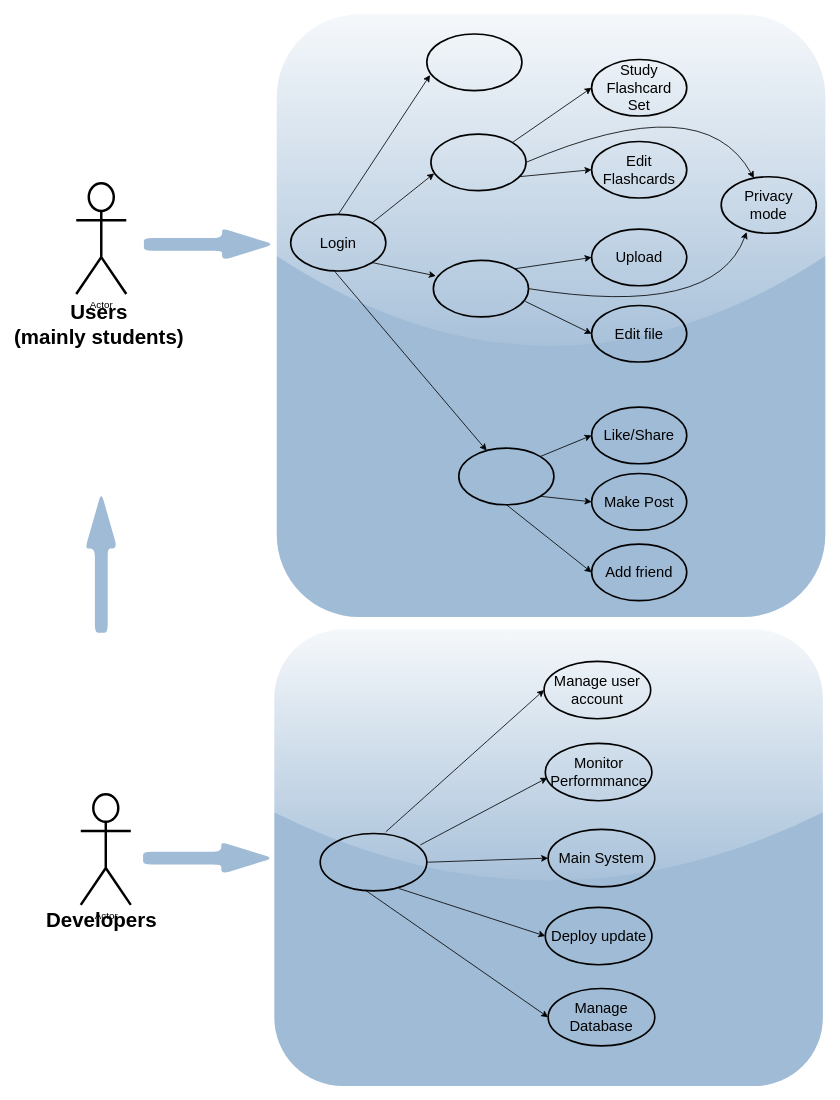
Image size: 840x1100. Some labels were removed from this diagram. Here are the shapes that lost their labels. From the top down, the centre of each, then its label:
At (x=474, y=62): "Manage profile".
At (x=478, y=162): "Flashcards Screen".
At (x=480, y=288): "File Organization Screen".
At (x=506, y=476): "Social Interact screen".
At (x=373, y=861): "Access system backend".
